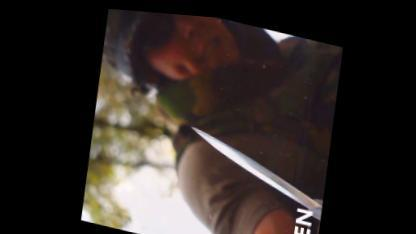knife: (172, 115, 328, 216)
